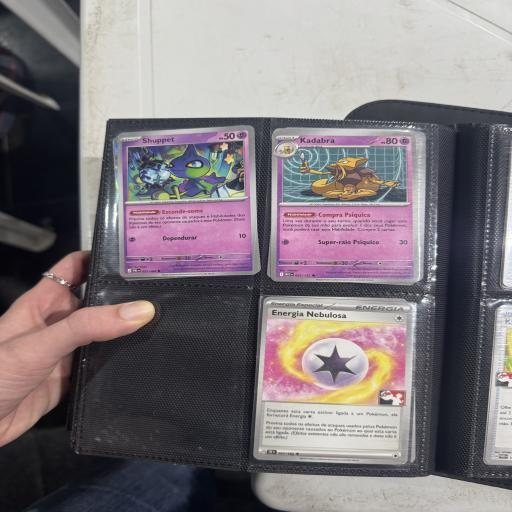card: (253, 296, 416, 465), (270, 130, 422, 284), (116, 125, 259, 278)
